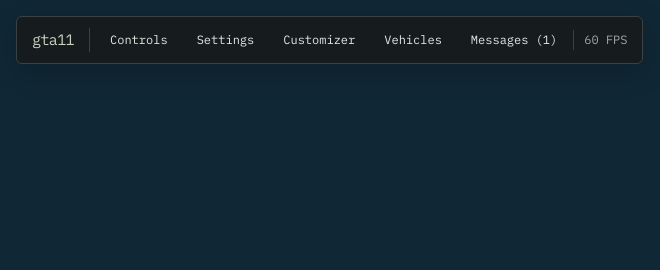
Scenario: renders console messages as text and reports measured FPS accessibly
expect the message named "Frame rate" reads "60 FPS": met, box [584, 32, 628, 47]
Click the button "Messages (1)": click(514, 40) [458, 22, 570, 58]
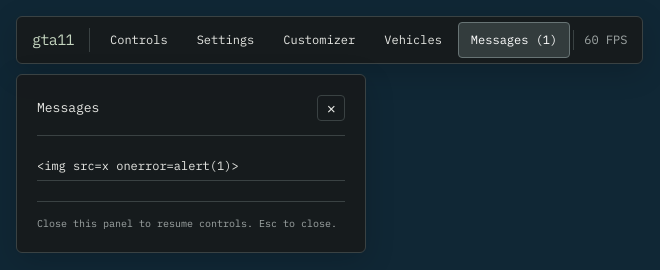
expect the element showing "<img src=x onerror=alert(1)>" is shown: met, box [37, 152, 345, 181]
